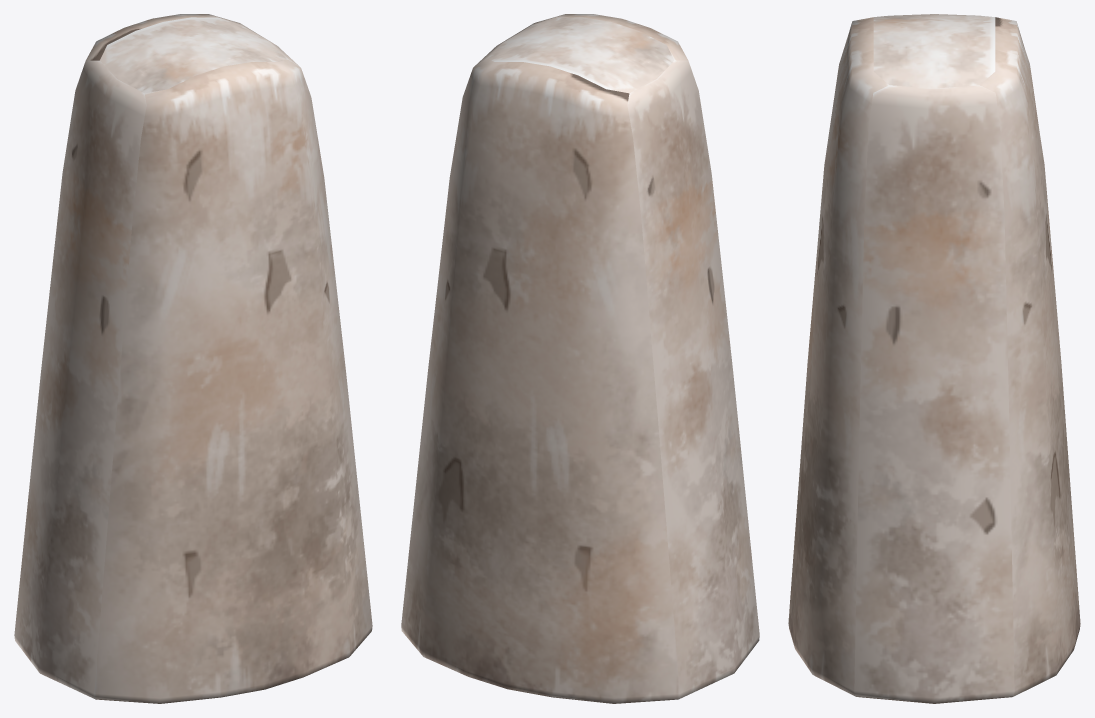
Rendered from Landmark_Stone.FBX.
3 renders of one model, left to right at view 1: azimuth 30°, elevation 25°; view 2: azimuth 150°, elevation 25°; view 3: azimuth 270°, elevation 25°, orthographic.
Parts seen in each view (by area): view 1: Landmark_Stone; view 2: Landmark_Stone; view 3: Landmark_Stone.
Boxes of the visible parts, <box> form: Landmark_Stone: <box>14,14,372,703</box>; Landmark_Stone: <box>401,14,759,703</box>; Landmark_Stone: <box>788,14,1080,703</box>.
Size of the model in its own units: 39.84 by 73.65 by 32.67.
